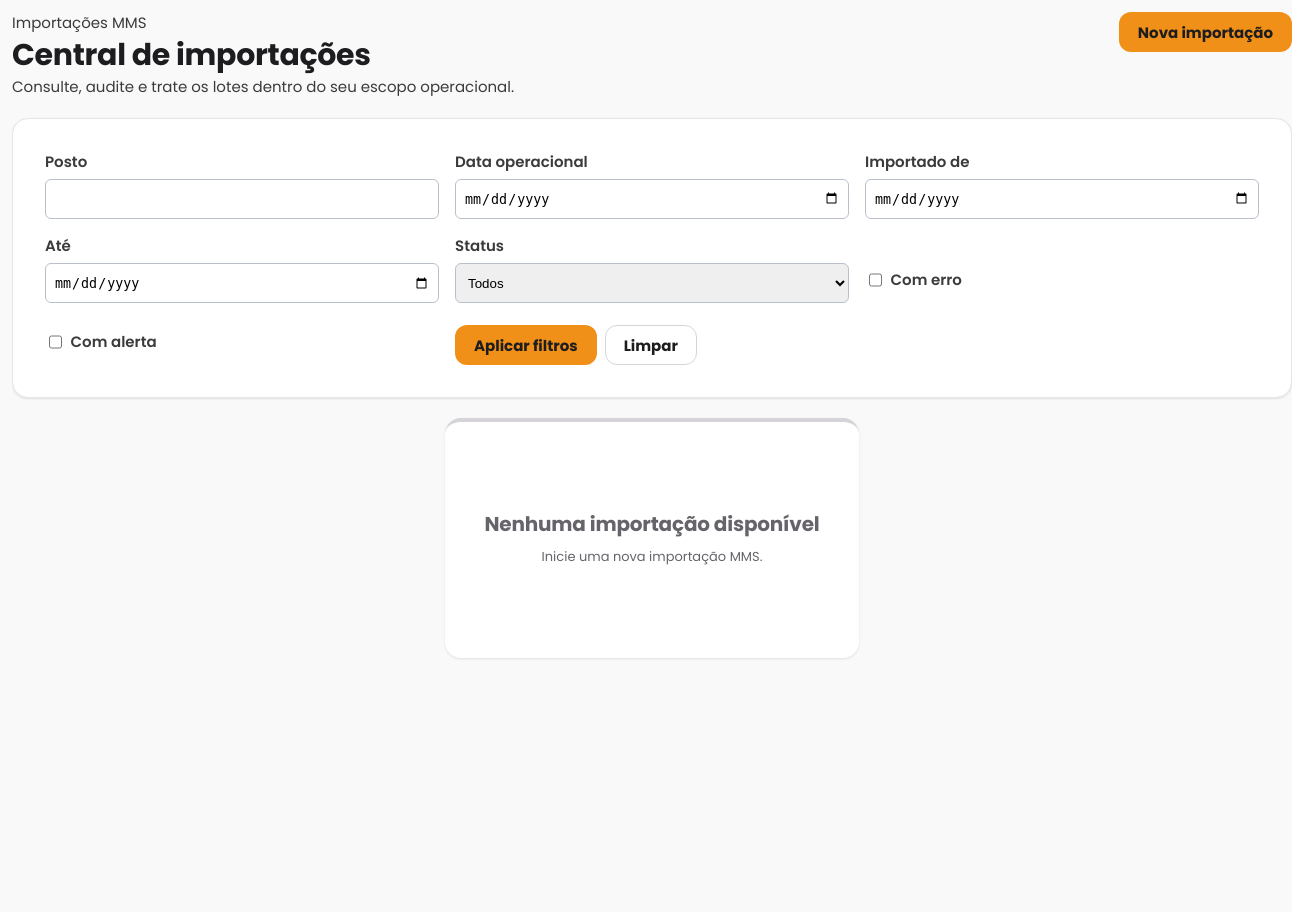
Test: import lot list › distinguishes an empty central from filtered no-results
Check: the heading "Nenhuma importação disponível" is shown, box [484,513,819,535]
Select "Com erros" in the dropdown labelled "Status" at [652, 283], box [455,263,849,303]
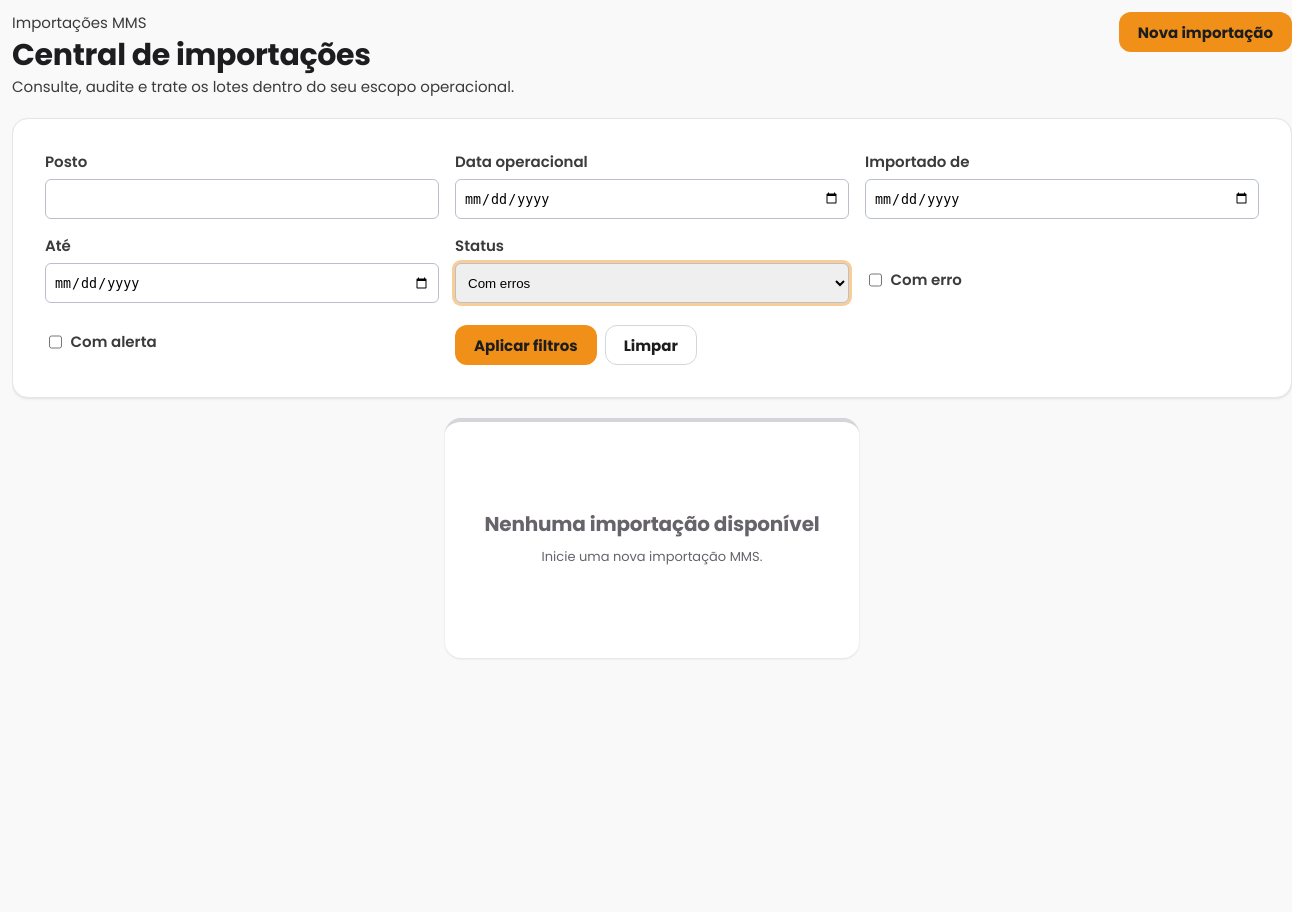
Click the button "Aplicar filtros".
click(526, 345)  # box [455,325,597,365]
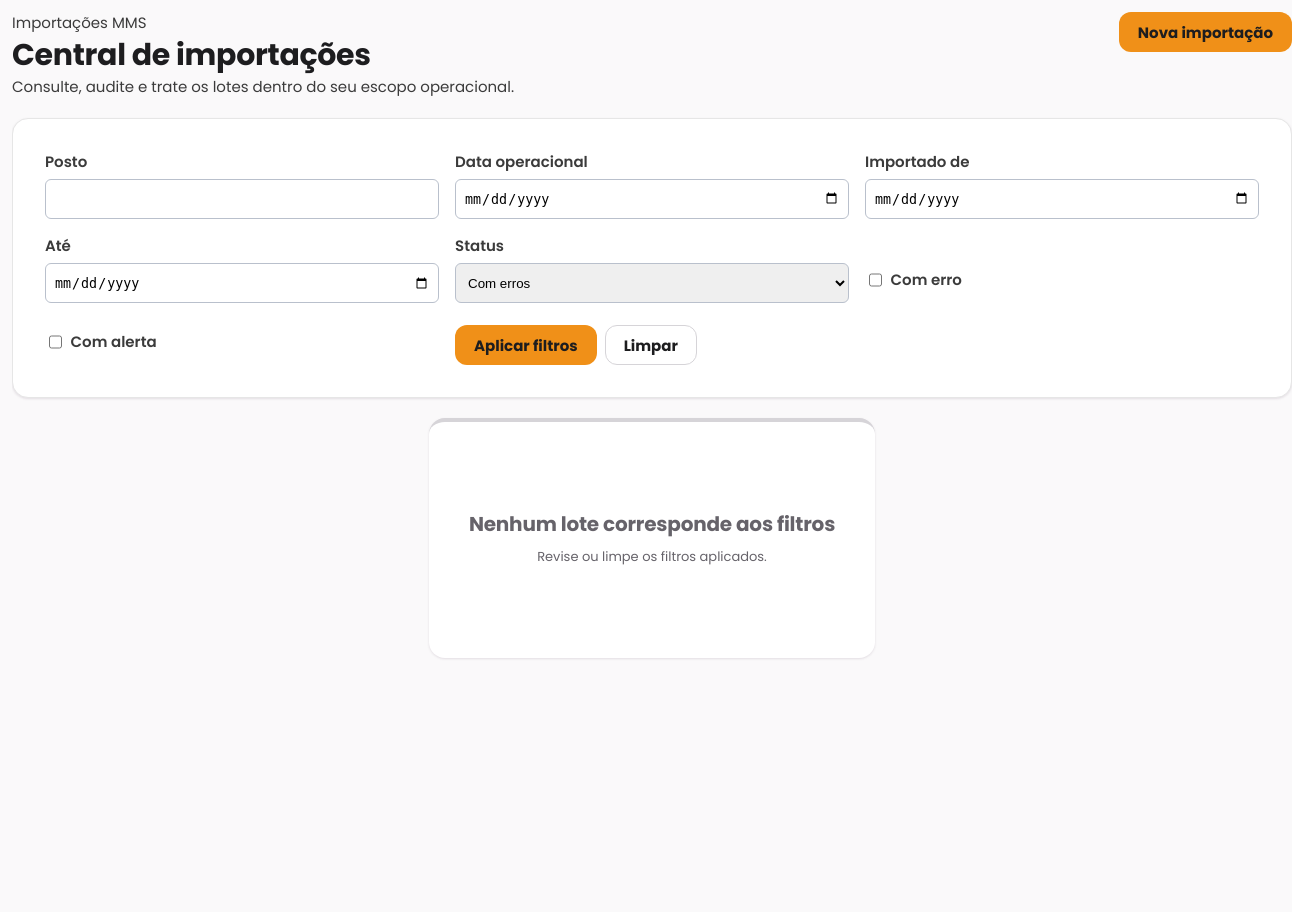
Check: the heading "Nenhum lote corresponde aos filtros" is shown, box [469,513,835,535]
